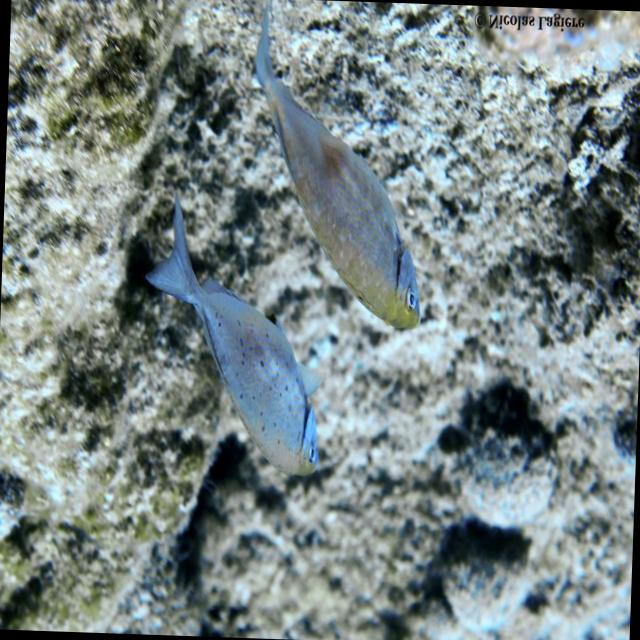Sokar Baligi: (216, 1, 462, 346), (135, 194, 340, 506)
